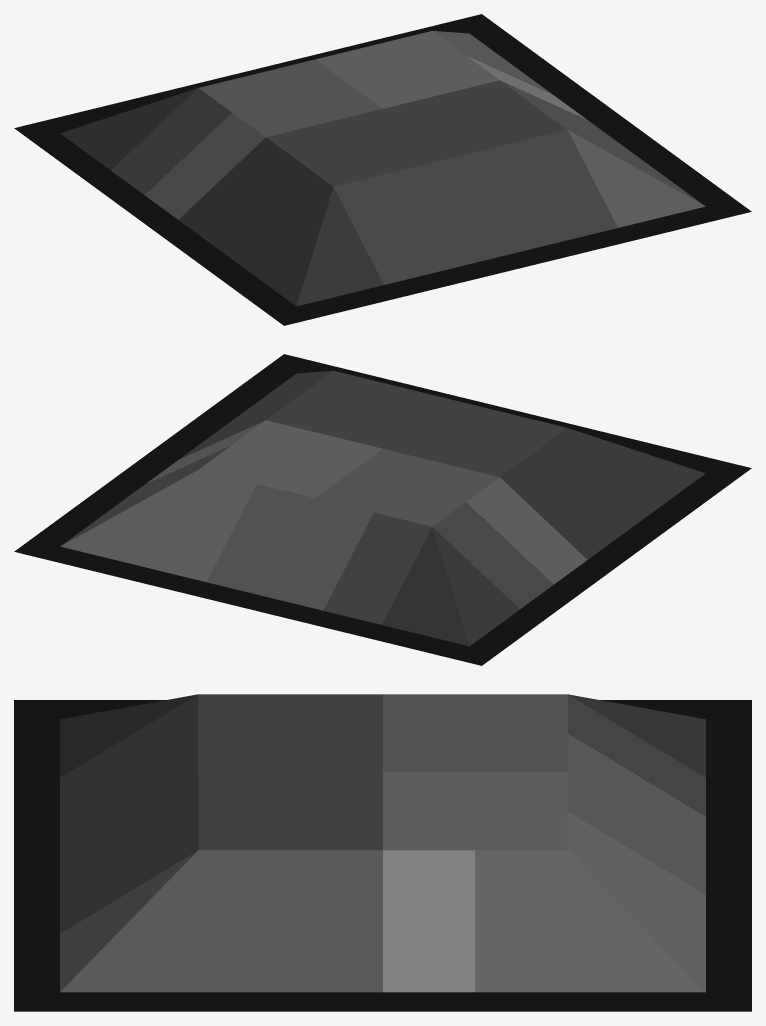
File: wall_top.gltf
The picture shows the model from 3 angles, top to bottom: view 1: azimuth 30°, elevation 25°; view 2: azimuth 150°, elevation 25°; view 3: azimuth 270°, elevation 25°; orthographic projection. The views are drawn at different scales.
Visible parts, largest first — view 1: wall_top; view 2: wall_top; view 3: wall_top.
Part boxes in pixels (left/top/right/bottom): wall_top: left=14, top=14, right=751, bottom=325; wall_top: left=14, top=354, right=751, bottom=665; wall_top: left=14, top=694, right=751, bottom=1011.
Bounding box in the file's own units: 1 × 0.125 × 1.
